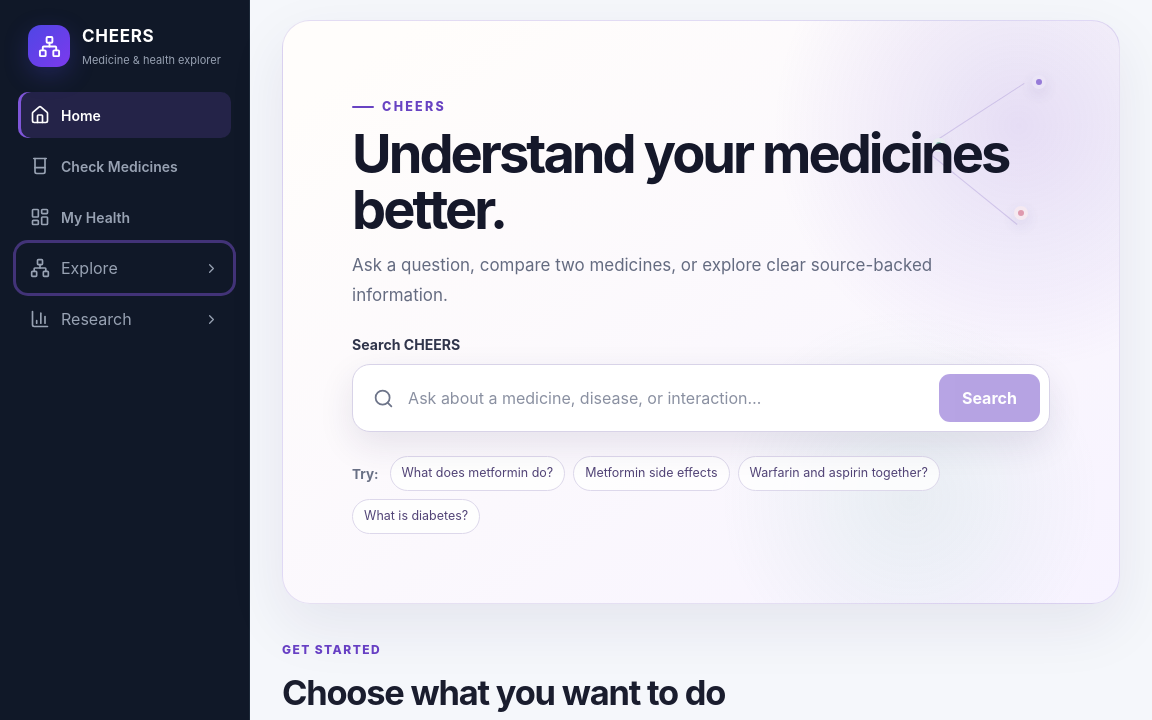
CHEERS application shell › preserves keyboard, Escape and outside-click behavior for Explore
Press Enter
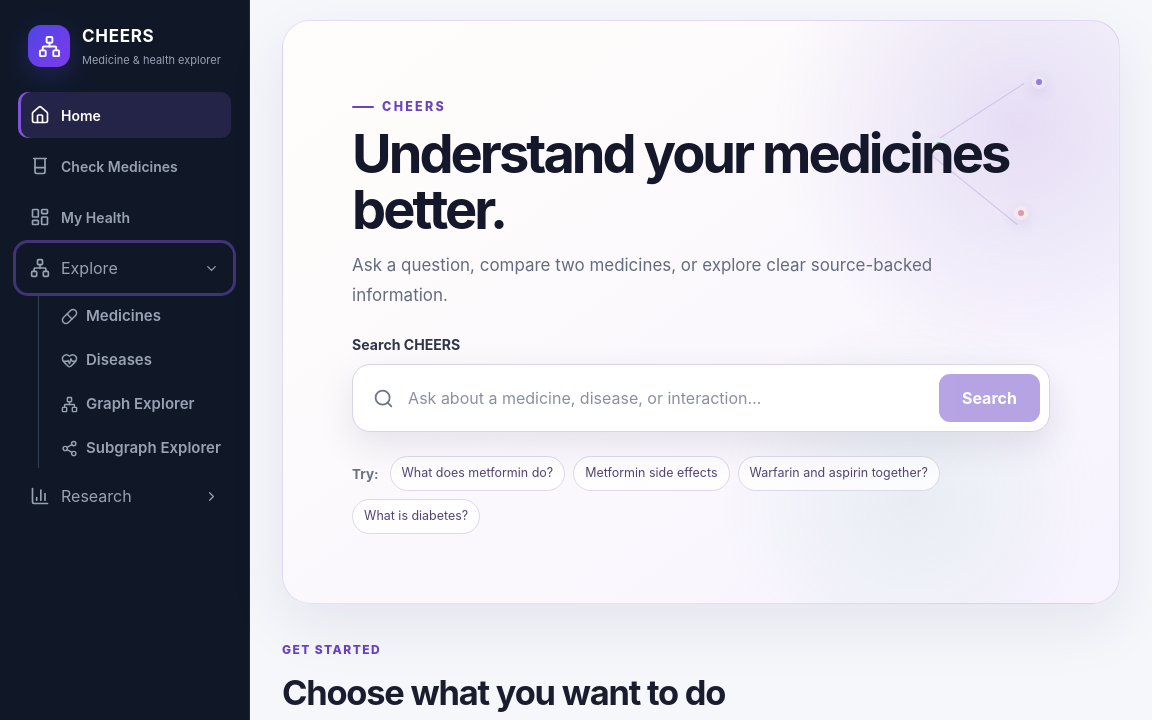
Expected: the button "Explore" is expanded, [18,245,231,291]
Press Tab
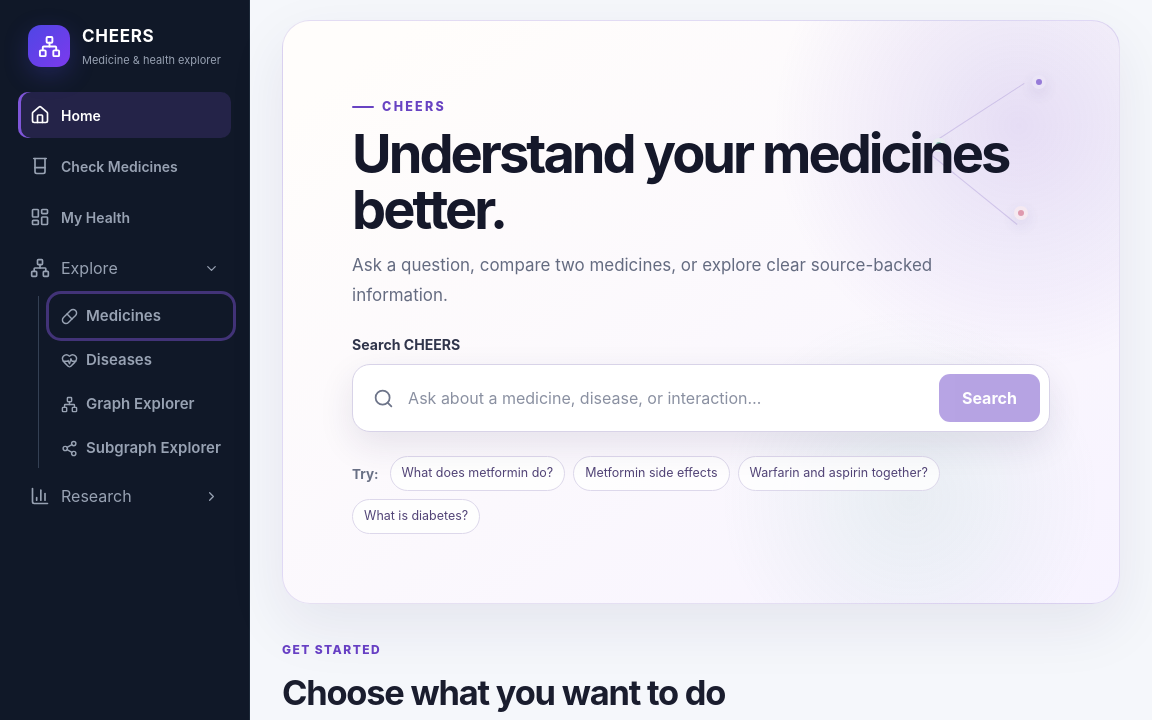
Press Escape
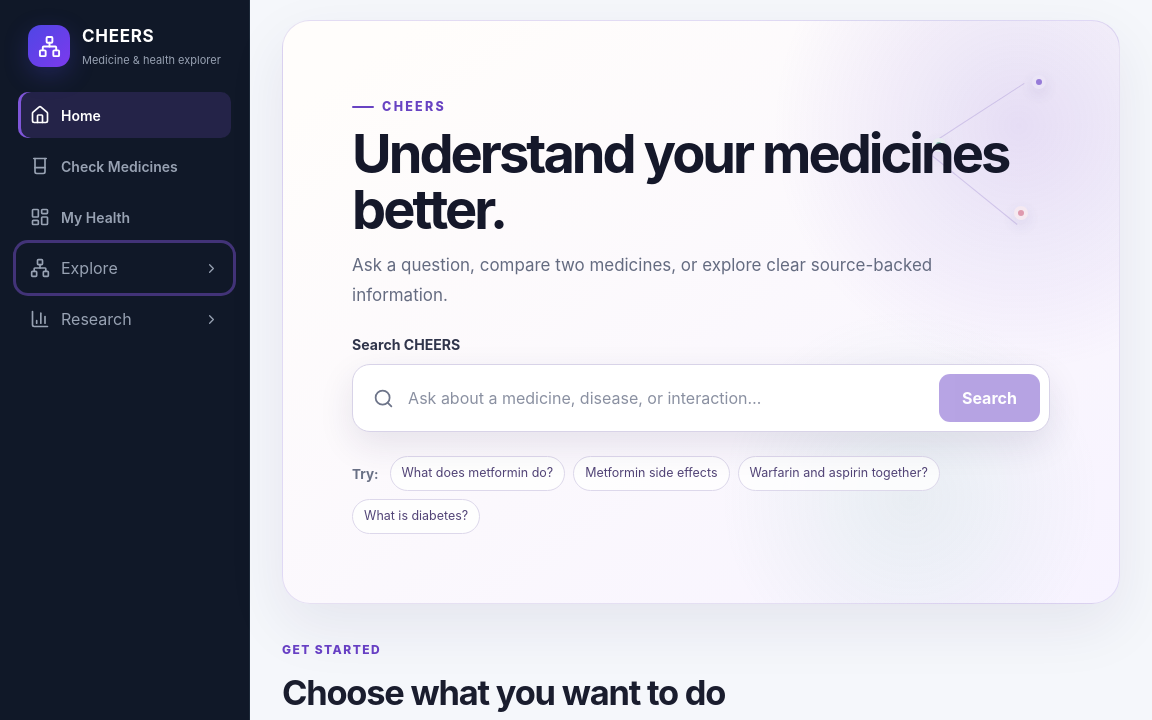
Expected: the button "Explore" is collapsed, [18,245,231,291]
Type keys " "
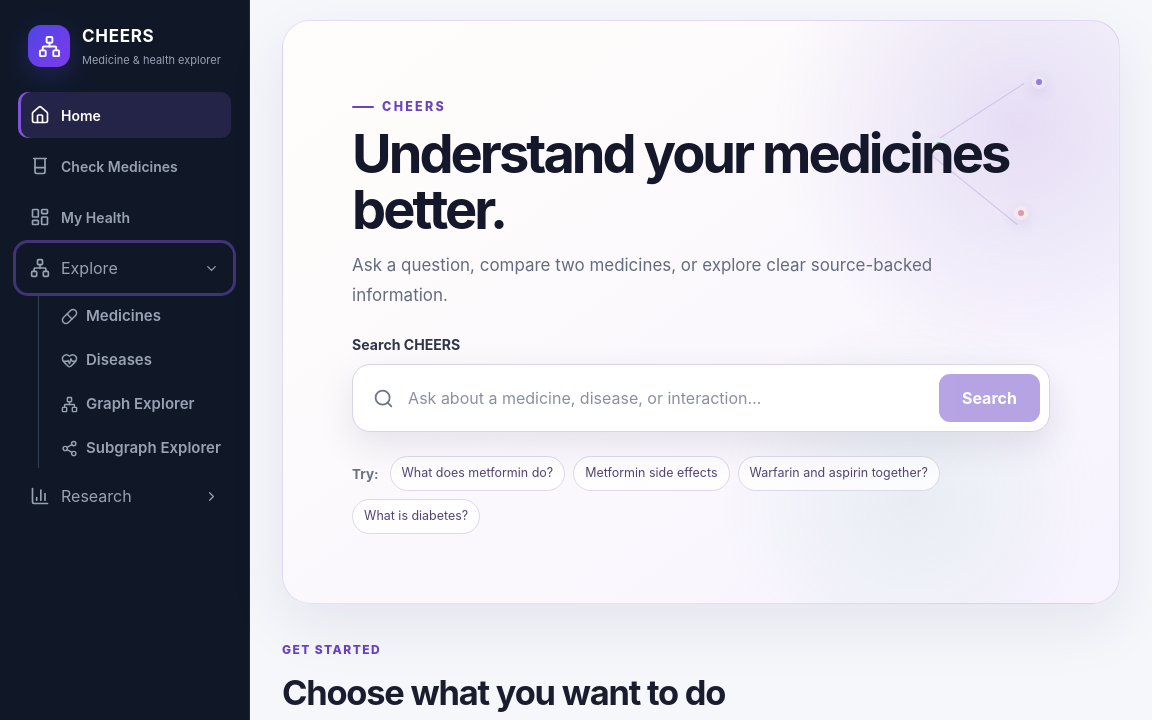
Expected: the button "Explore" is expanded, [18,245,231,291]
Click the heading "Understand your medicines better.".
click(697, 182)  # box [352,126,1042,237]
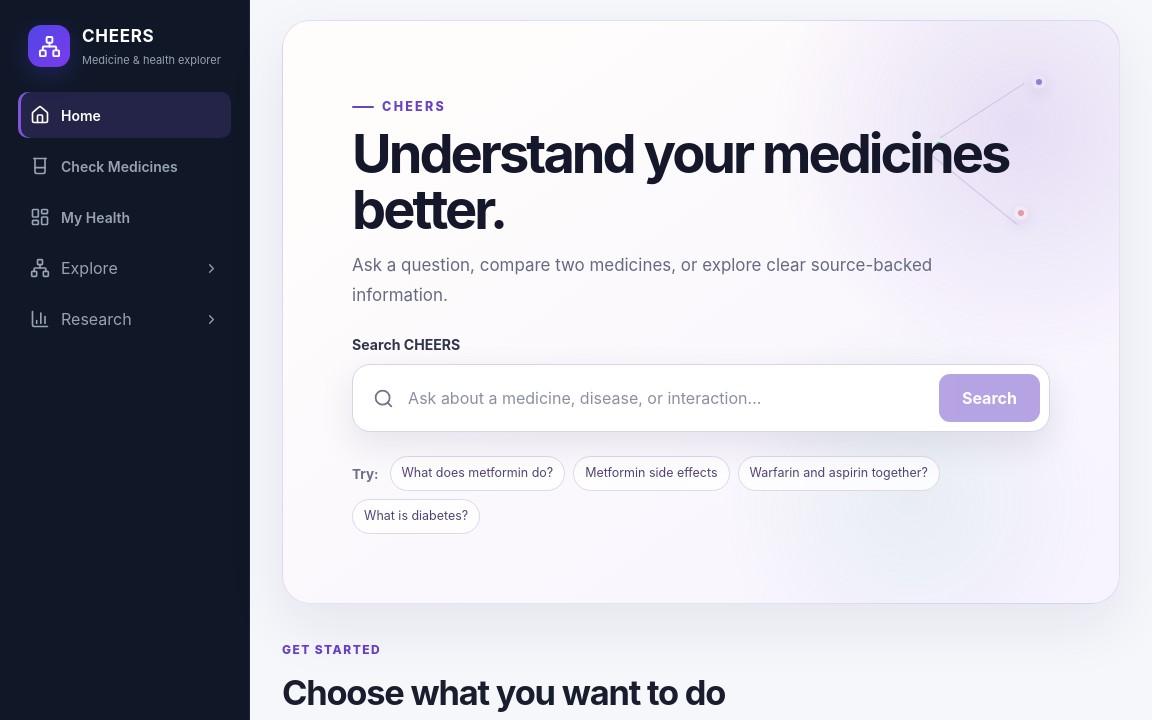
Expected: the button "Explore" is collapsed, [18,245,231,291]
